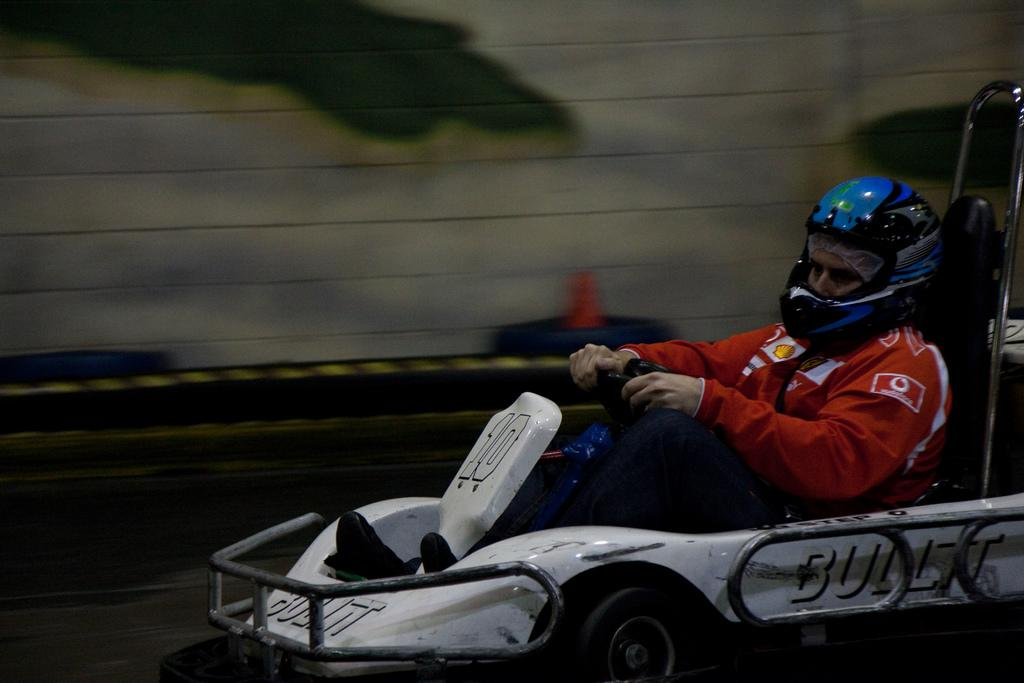helmet: (779, 176, 943, 339)
